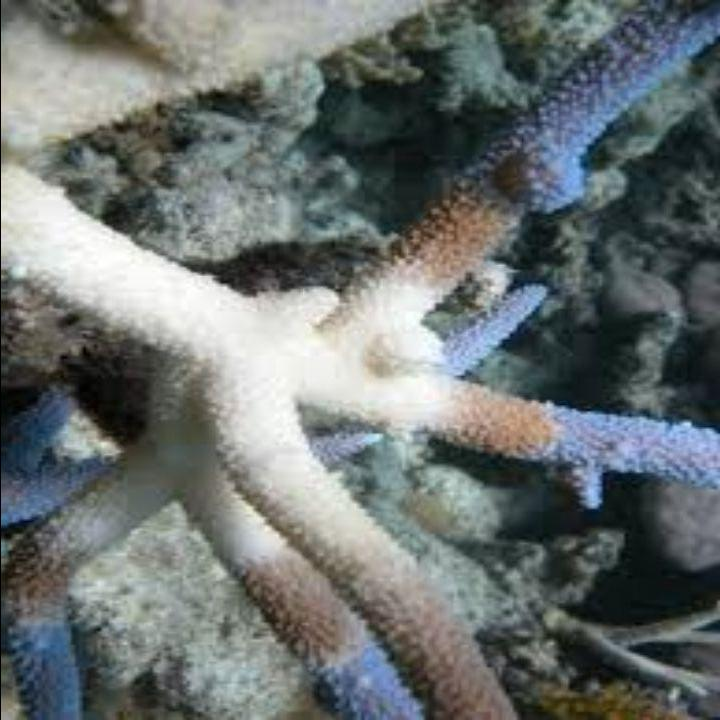Band disease: (0, 106, 495, 606)
